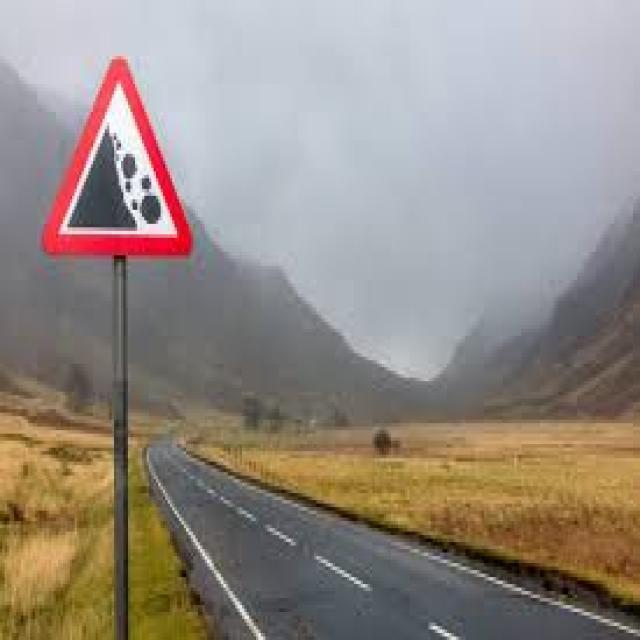falling rocks: (38, 53, 199, 271)
